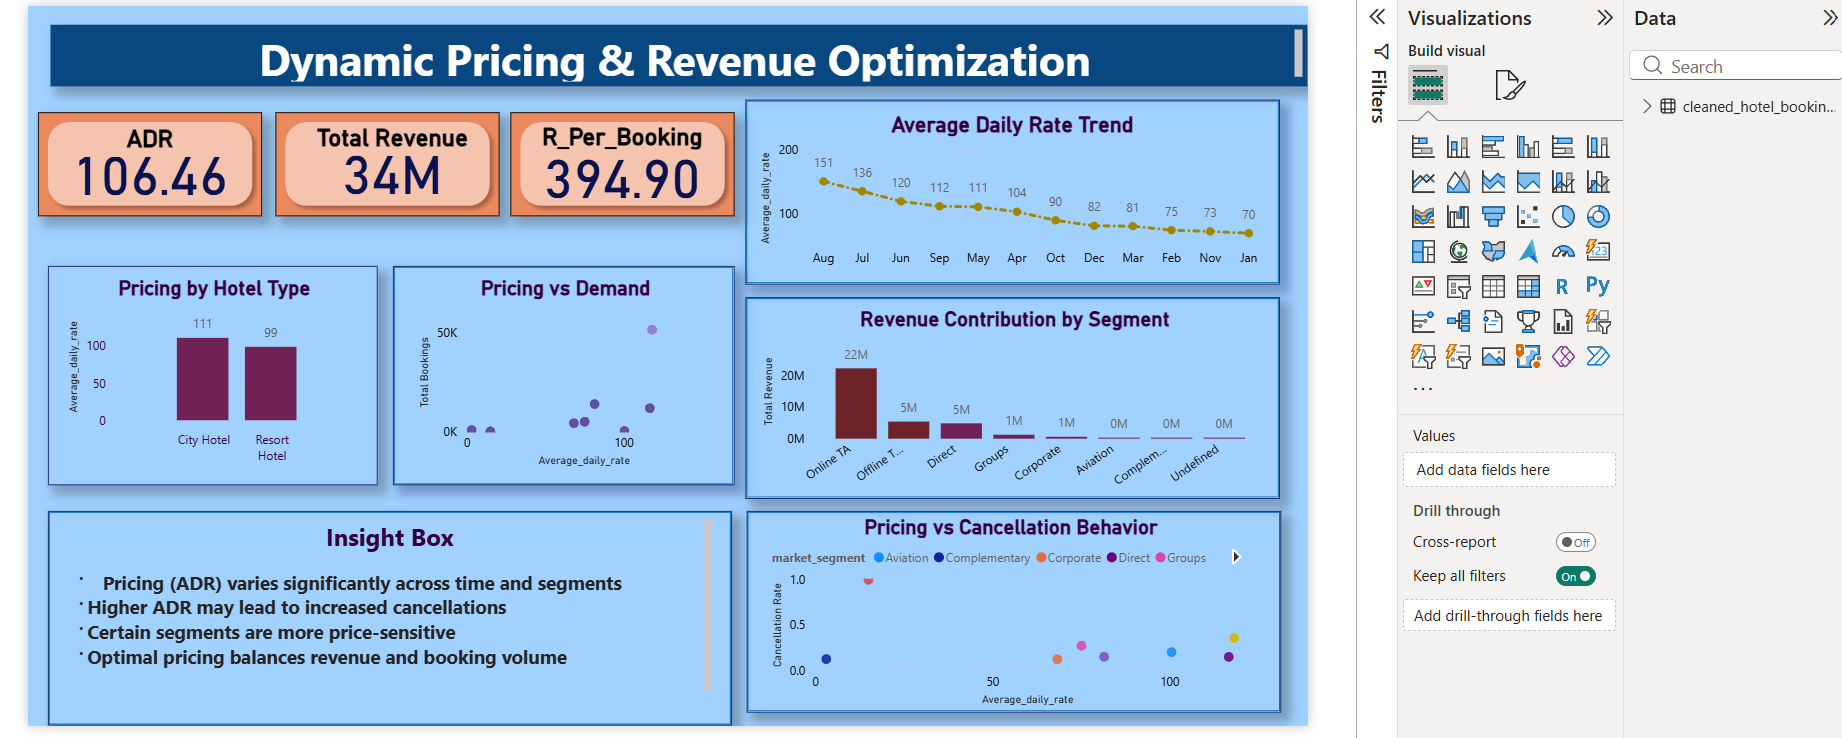

Layout of this report page (visuals, bound fields, positions):
{"tool":"powerbi","page":{"name":"Page 2","canvas":[1280,720],"ordinal":1},"visuals":[{"type":"textbox","box":[22.9,19.3,1257.1,61.5],"z":0},{"type":"shape","box":[717.8,94.1,534.5,184.6],"z":7000},{"type":"shape","box":[20.5,259.4,329.4,219.6],"z":8000},{"type":"shape","box":[365.6,259.4,341.4,219.6],"z":9000},{"type":"shape","box":[717.8,290.8,534.5,201.5],"z":10000},{"type":"shape","box":[20.5,505.5,684.1,214.7],"z":11000},{"type":"shape","box":[719,505.5,534.5,201.5],"z":12000},{"type":"lineChart","title":"Average Daily Rate Trend","fields":{"Y":["cleaned_hotel_booking (11).Average_daily_rate"],"Category":["cleaned_hotel_booking (11).Month Name"]},"box":[727.5,106.2,513.9,164.1],"z":13000},{"type":"columnChart","title":"Pricing by Hotel Type","fields":{"Category":["cleaned_hotel_booking (11).hotel"],"Y":["cleaned_hotel_booking (11).Average_daily_rate"]},"box":[35,270.2,302.8,195.4],"z":14000},{"type":"scatterChart","title":"Pricing vs Demand","fields":{"X":["cleaned_hotel_booking (11).Average_daily_rate"],"Y":["cleaned_hotel_booking (11).Total Bookings"],"Category":["cleaned_hotel_booking (11).market_segment"]},"box":[386.1,270.2,302.8,195.4],"z":15000},{"type":"columnChart","title":"Revenue Contribution by Segment","fields":{"Category":["cleaned_hotel_booking (11).market_segment"],"Y":["cleaned_hotel_booking (11).Total Revenue"]},"box":[729.9,301.6,513.9,190.6],"z":16000},{"type":"scatterChart","title":"Pricing vs Cancellation Behavior","fields":{"X":["cleaned_hotel_booking (11).Average_daily_rate"],"Y":["cleaned_hotel_booking (11).Cancellation Rate"],"Series":["cleaned_hotel_booking (11).market_segment"]},"box":[738.3,509.1,488.6,195.4],"z":17000},{"type":"textbox","box":[36.2,509.1,652.7,195.4],"z":18000},{"type":"shape","box":[9.7,106.2,224.4,103.8],"z":18001},{"type":"shape","box":[247.3,106.2,224.4,103.8],"z":18003},{"type":"card","title":"ADR","fields":{"Values":["cleaned_hotel_booking (11).Average_daily_rate"]},"box":[20.5,118.2,203.9,83.2],"z":18004},{"type":"card","title":"Total Revenue","fields":{"Values":["cleaned_hotel_booking (11).Total Revenue"]},"box":[263,117,203.9,83.2],"z":18005},{"type":"shape","box":[482.6,106.2,224.4,103.8],"z":18006},{"type":"card","title":"R_Per_Booking","fields":{"Values":["cleaned_hotel_booking (11).Revenue per Booking"]},"box":[492.2,115.8,203.9,83.2],"z":18007}]}

Visuals, with their boxes on the page's 1280x720 design canvas (x1, y1, x2, y2). These are canvas units, not pixel positions in the 1842x738 screenshot, which may show the page scaled, cropped or inside an application window:
textbox: bbox(23, 19, 1280, 81)
shape: bbox(718, 94, 1252, 279)
shape: bbox(20, 259, 350, 479)
shape: bbox(366, 259, 707, 479)
shape: bbox(718, 291, 1252, 492)
shape: bbox(20, 506, 705, 720)
shape: bbox(719, 506, 1254, 707)
"Average Daily Rate Trend" lineChart: bbox(728, 106, 1241, 270)
"Pricing by Hotel Type" columnChart: bbox(35, 270, 338, 466)
"Pricing vs Demand" scatterChart: bbox(386, 270, 689, 466)
"Revenue Contribution by Segment" columnChart: bbox(730, 302, 1244, 492)
"Pricing vs Cancellation Behavior" scatterChart: bbox(738, 509, 1227, 704)
textbox: bbox(36, 509, 689, 704)
shape: bbox(10, 106, 234, 210)
shape: bbox(247, 106, 472, 210)
"ADR" card: bbox(20, 118, 224, 201)
"Total Revenue" card: bbox(263, 117, 467, 200)
shape: bbox(483, 106, 707, 210)
"R_Per_Booking" card: bbox(492, 116, 696, 199)
